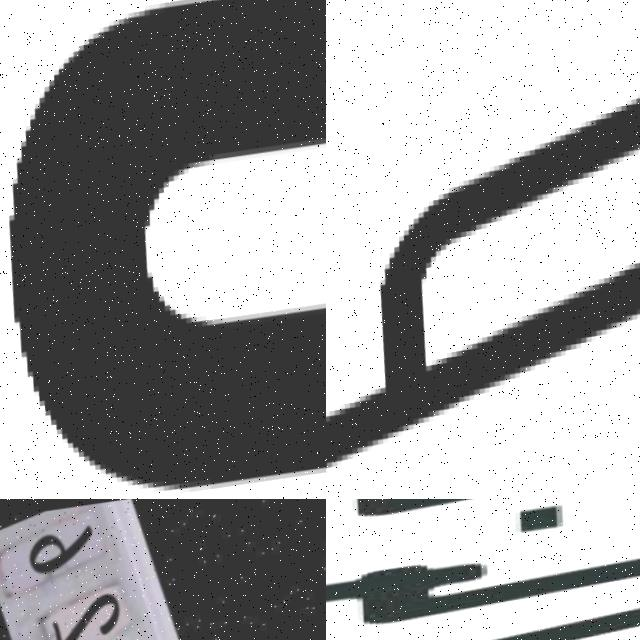2: (39, 584, 145, 640)
4: (326, 512, 640, 640), (326, 499, 640, 533)
6: (13, 513, 116, 589)
7: (326, 575, 640, 640)
P: (326, 96, 640, 480)
U: (0, 0, 326, 499)
